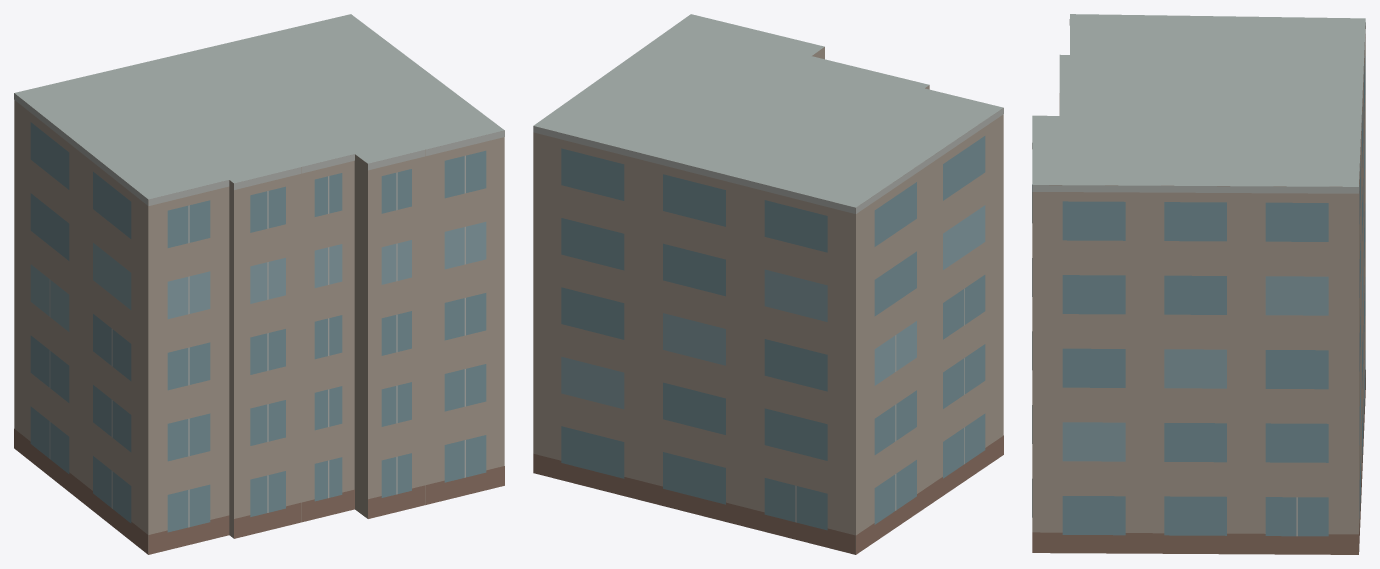
File: survey-upis-32765708.glb
3 views of the same model, side by side, from view 1: azimuth 30°, elevation 25°; view 2: azimuth 150°, elevation 25°; view 3: azimuth 270°, elevation 25° (orthographic). The views are drawn at different scales.
Parts seen in each view (by area): view 1: survey-upis-32765708.tmp; view 2: survey-upis-32765708.tmp; view 3: survey-upis-32765708.tmp.
Boxes of the visible parts, left/top/right/bottom form: survey-upis-32765708.tmp: left=14, top=14, right=504, bottom=554; survey-upis-32765708.tmp: left=533, top=14, right=1003, bottom=554; survey-upis-32765708.tmp: left=1032, top=14, right=1365, bottom=554.
Size of the model in its own units: 13.11 by 13 by 10.69.
